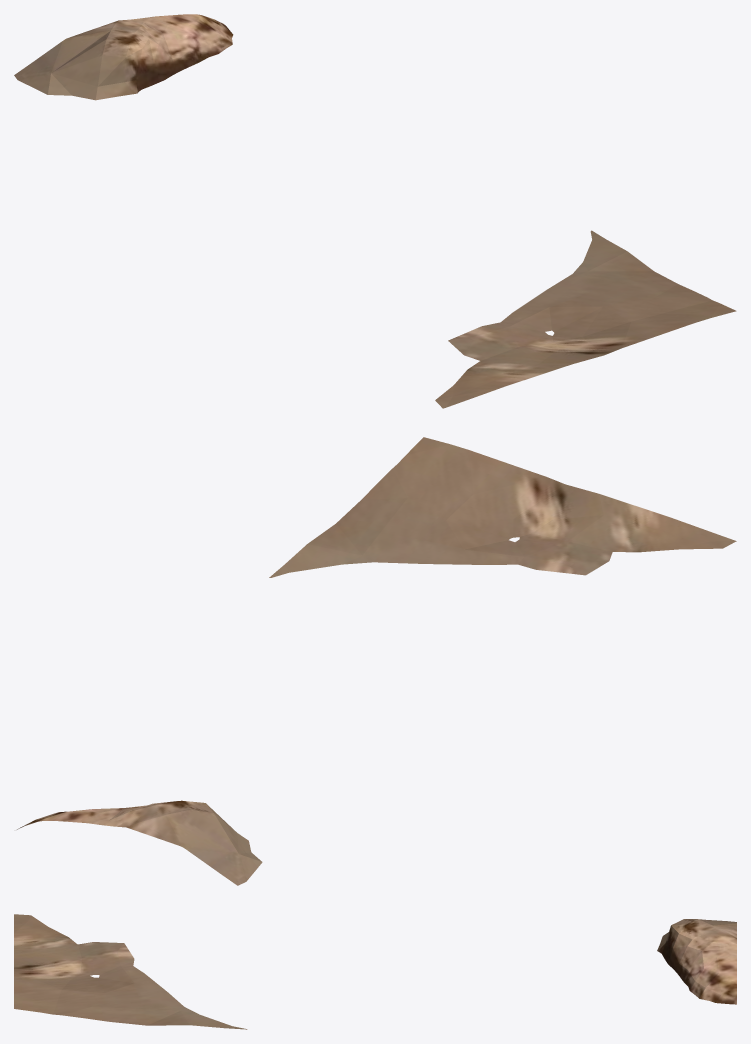
3 renders of one model, top to bottom at view 1: azimuth 30°, elevation 25°; view 2: azimuth 150°, elevation 25°; view 3: azimuth 270°, elevation 25°, orthographic. The views are drawn at different scales.
Size of the model in its own units: 0.395 by 0.0475 by 1.04.
Materials: 1 (1 with a texture image).
